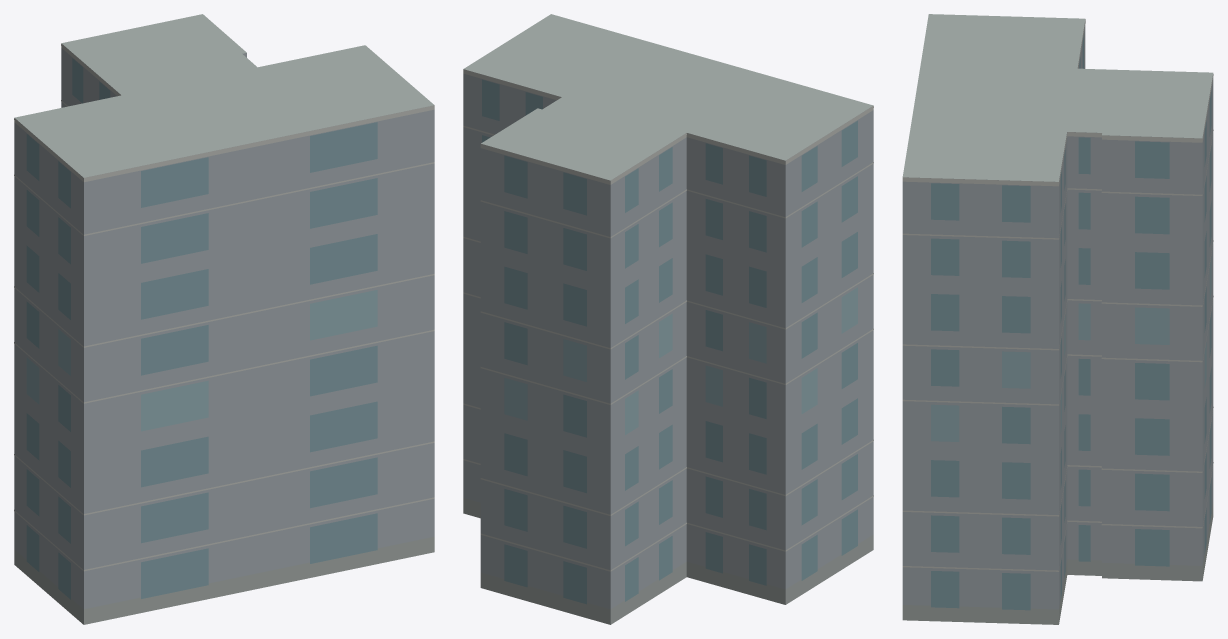
The model's file is survey-upis-32701722.glb.
3 renders of one model, left to right at view 1: azimuth 30°, elevation 25°; view 2: azimuth 150°, elevation 25°; view 3: azimuth 270°, elevation 25°, orthographic.
Visible parts, largest first — view 1: survey-upis-32701722.tmp; view 2: survey-upis-32701722.tmp; view 3: survey-upis-32701722.tmp.
Boxes of the visible parts, x1,y1,x2,y2 form: survey-upis-32701722.tmp: [14, 14, 434, 624]; survey-upis-32701722.tmp: [463, 14, 873, 624]; survey-upis-32701722.tmp: [902, 14, 1213, 624].
Bounding box in the file's own units: 19.86 × 24.4 × 15.54.
